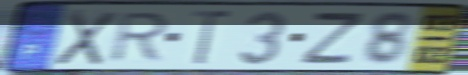3: (237, 8, 288, 68)
8: (361, 9, 415, 67)
R: (105, 10, 174, 65)
T: (188, 8, 236, 67)
X: (52, 7, 121, 67)
Z: (296, 10, 368, 66)
